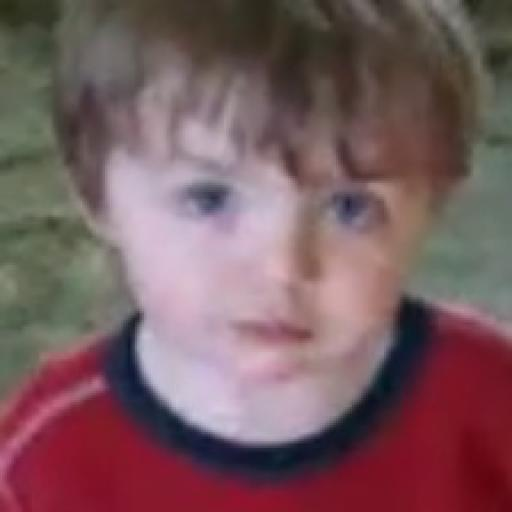Autism: (55, 0, 490, 423)
